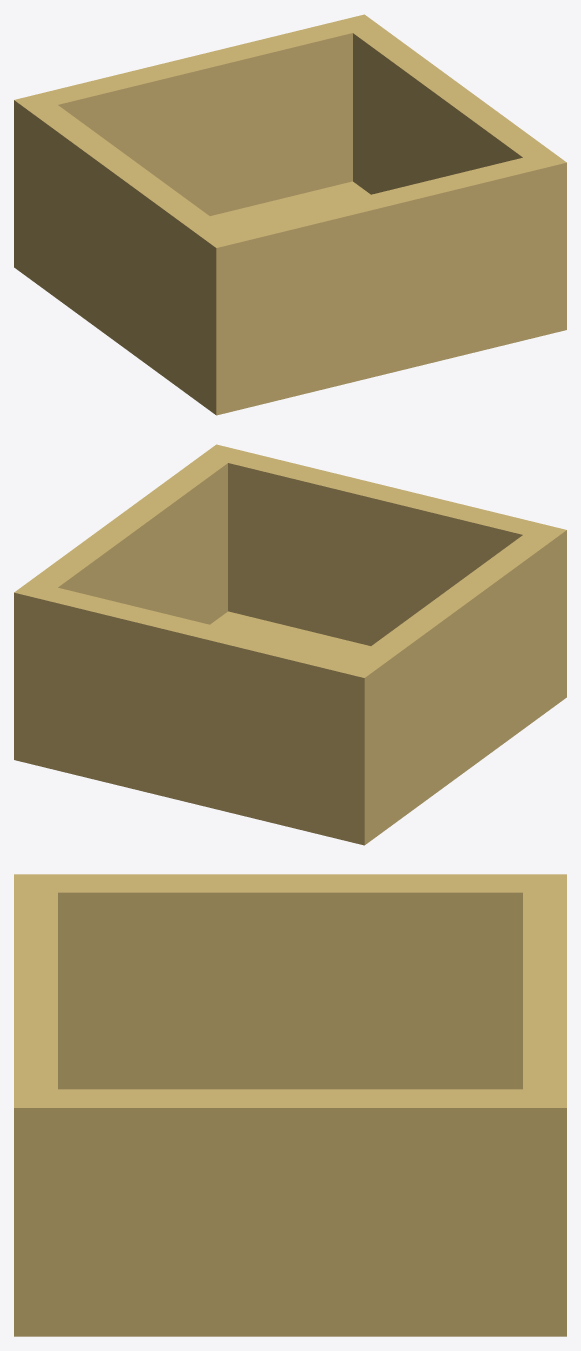
File: box108270753hako.fbx
The picture shows the model from 3 angles, top to bottom: view 1: azimuth 30°, elevation 25°; view 2: azimuth 150°, elevation 25°; view 3: azimuth 270°, elevation 25°; orthographic projection. The views are drawn at different scales.
Parts seen in each view (by area): view 1: はこ; view 2: はこ; view 3: はこ.
Part boxes in pixels (x1,y1,x2,y2): はこ: (14,14,566,415); はこ: (14,444,566,845); はこ: (14,874,566,1336).
Size of the model in its own units: 3.78 by 1.72 by 3.78.
